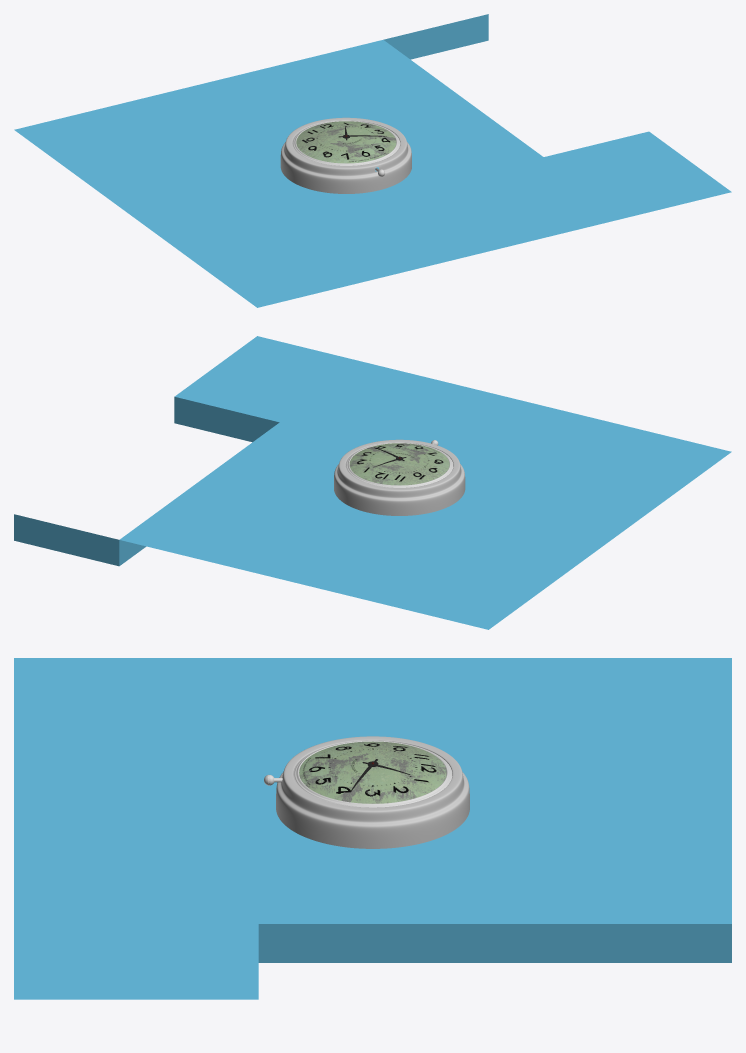
The model's file is retroclock.fbx.
The picture shows the model from 3 angles, top to bottom: view 1: azimuth 30°, elevation 25°; view 2: azimuth 150°, elevation 25°; view 3: azimuth 270°, elevation 25°; orthographic projection. The views are drawn at different scales.
Visible parts, largest first — view 1: Plane, Cylinder.001, Sphere, Cylinder; view 2: Plane, Cylinder.001, Sphere, Cylinder; view 3: Plane, Cylinder.001, Sphere, Cylinder.
Part boxes in pixels (box(x1,y1,x2,y2)): Plane: box(14, 14, 731, 307); Cylinder.001: box(280, 117, 411, 193); Sphere: box(296, 121, 396, 163); Cylinder: box(292, 120, 400, 165); Plane: box(14, 336, 731, 629); Cylinder.001: box(334, 439, 465, 515); Sphere: box(349, 443, 449, 485); Cylinder: box(345, 442, 453, 487); Plane: box(14, 658, 731, 999); Cylinder.001: box(276, 736, 469, 848); Sphere: box(299, 741, 446, 803); Cylinder: box(293, 740, 452, 807).
Size of the model in its own units: 966 by 114 by 858.
